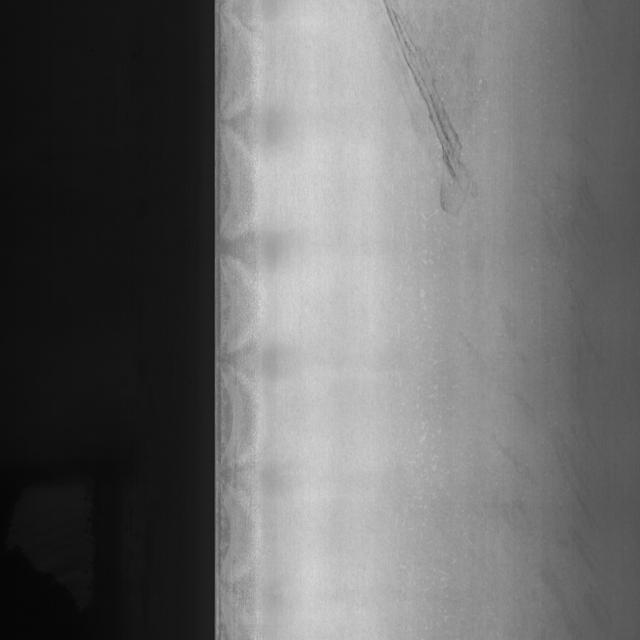water_spot: (368, 6, 488, 237)
